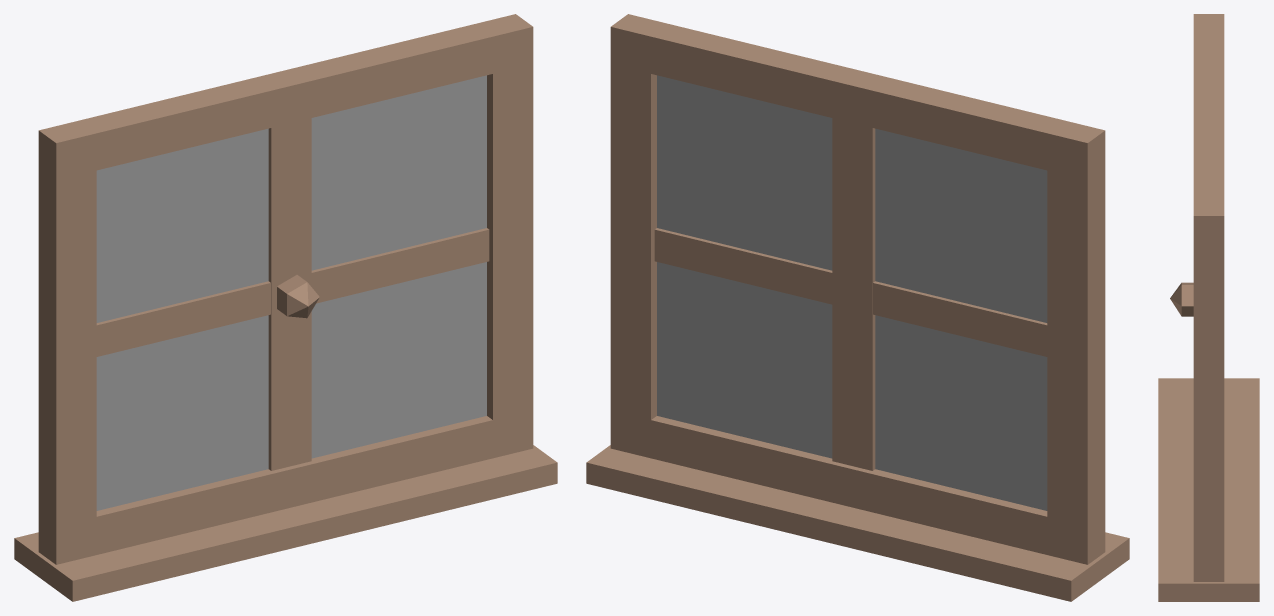
Rendered from Window_2D.fbx.
3 views of the same model, side by side, from view 1: azimuth 30°, elevation 25°; view 2: azimuth 150°, elevation 25°; view 3: azimuth 270°, elevation 25° (orthographic). The views are drawn at different scales.
Visible parts, largest first — view 1: polySurface1841, Window_Glass_3; view 2: polySurface1841, Window_Glass_3; view 3: polySurface1841.
Part boxes in pixels (<box>): polySurface1841: <box>14,14,557,601</box>; Window_Glass_3: <box>96,75,486,510</box>; polySurface1841: <box>586,14,1129,601</box>; Window_Glass_3: <box>657,75,1047,510</box>; polySurface1841: <box>1158,14,1259,601</box>.
Size of the model in its own units: 2.4 by 2.09 by 0.5.
Materials: 2 (1 with a texture image).
